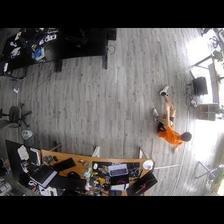fall: (151, 83, 192, 151)
